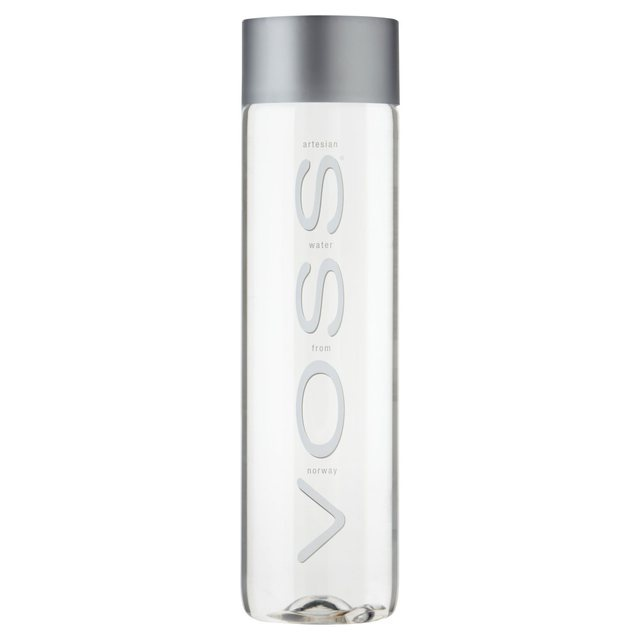emptybottle: (238, 15, 400, 625)
